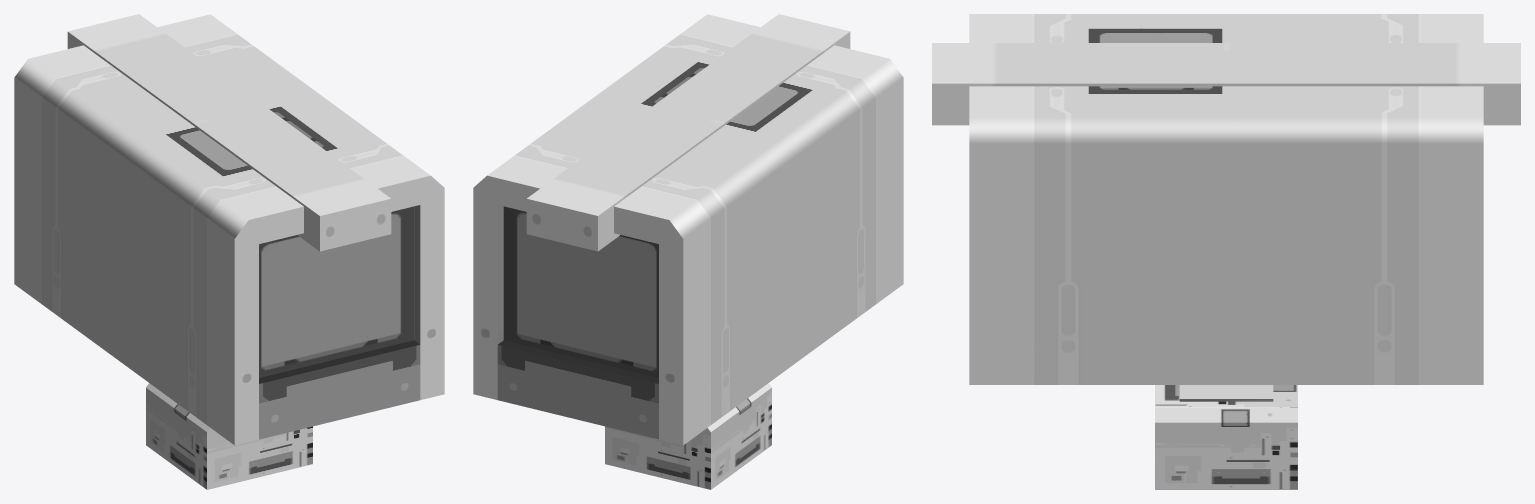
File: inserter-3.glb
The picture shows the model from 3 angles, left to right: view 1: azimuth 30°, elevation 25°; view 2: azimuth 150°, elevation 25°; view 3: azimuth 270°, elevation 25°; orthographic projection. The views are drawn at different scales.
Visible parts, largest first — view 1: inserter-3; view 2: inserter-3; view 3: inserter-3.
Part boxes in pixels (x1,y1,x2,y2): inserter-3: (14,14,444,489); inserter-3: (473,14,903,489); inserter-3: (932,14,1520,489).
Bounding box in the file's own units: 0.99 × 1.53 × 2.06.
Materials: 2 (2 with a texture image).
